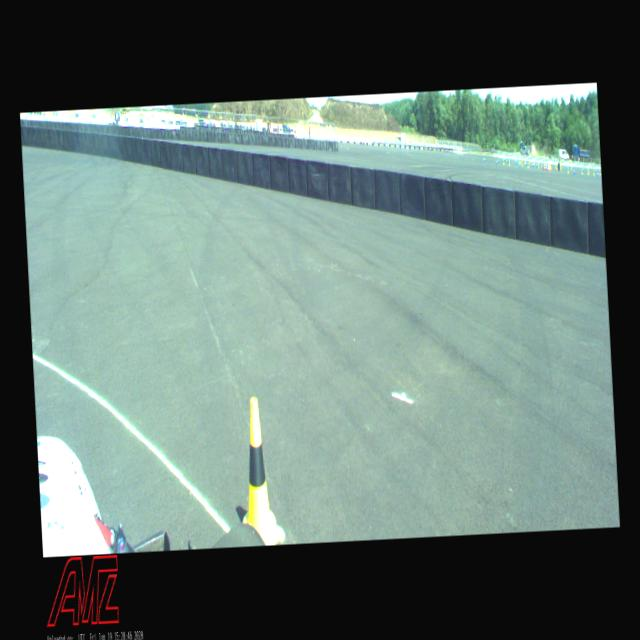yellow_cone: (237, 397, 286, 546)
